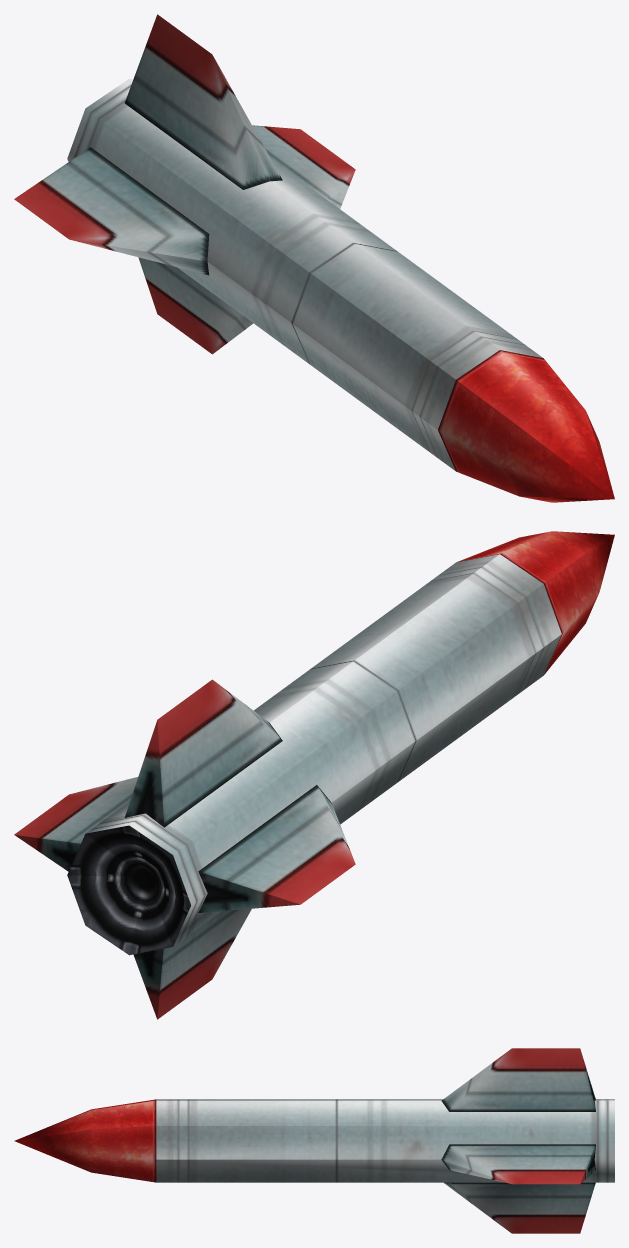
File: Rocket-02.FBX
3 renders of one model, top to bottom at view 1: azimuth 30°, elevation 25°; view 2: azimuth 150°, elevation 25°; view 3: azimuth 270°, elevation 25°, orthographic. The views are drawn at different scales.
Parts seen in each view (by area): view 1: swarm; view 2: swarm; view 3: swarm.
Part boxes in pixels (bbox=[...]): swarm: bbox=[14, 14, 614, 502]; swarm: bbox=[14, 531, 614, 1019]; swarm: bbox=[14, 1048, 614, 1233].
Size of the model in its own units: 53.1 by 53.1 by 156.
